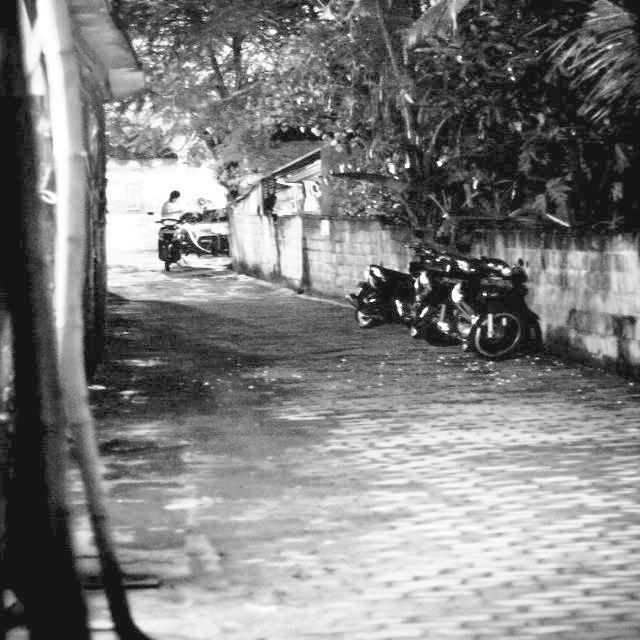Motorcycle: (445, 249, 538, 355), (352, 233, 435, 330), (147, 216, 200, 261)
